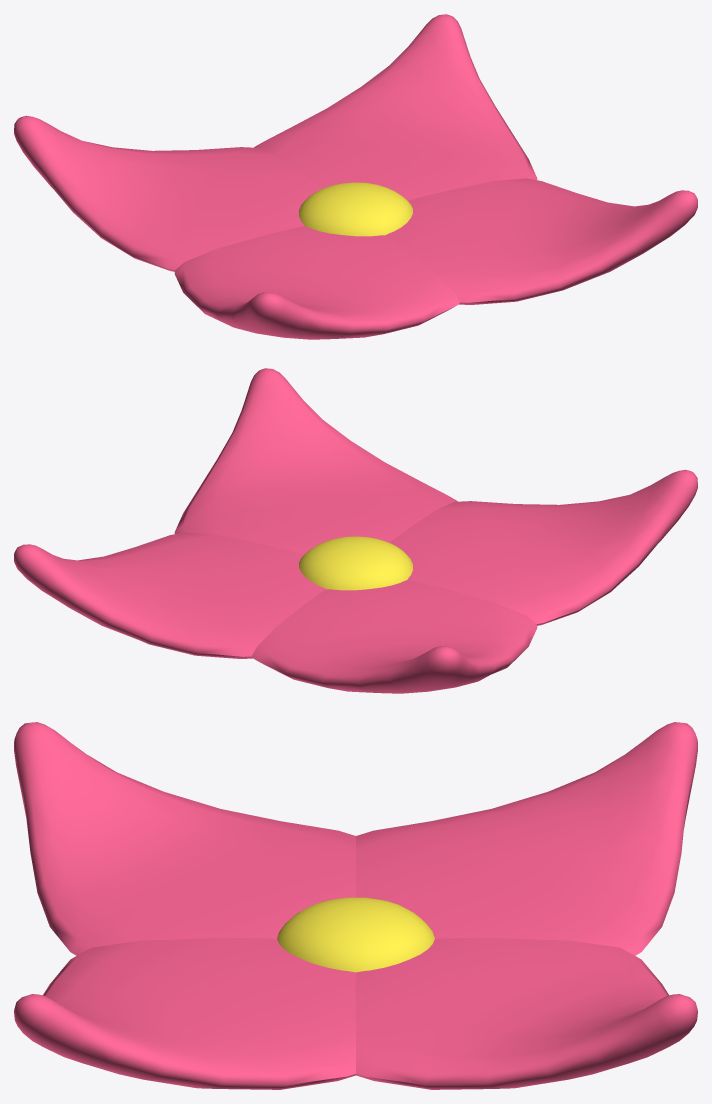
File: Town_16_Flower_1.glb
3 renders of one model, top to bottom at view 1: azimuth 30°, elevation 25°; view 2: azimuth 150°, elevation 25°; view 3: azimuth 270°, elevation 25°, orthographic. The views are drawn at different scales.
Visible parts, largest first — view 1: Town_16_Flower_1; view 2: Town_16_Flower_1; view 3: Town_16_Flower_1.
Part boxes in pixels (x1,y1,x2,y2): Town_16_Flower_1: (14, 14, 697, 339); Town_16_Flower_1: (14, 368, 697, 693); Town_16_Flower_1: (14, 722, 697, 1089).
Bounding box in the file's own units: 0.3801 × 0.0716 × 0.3801.
1 material, 1 textured.
